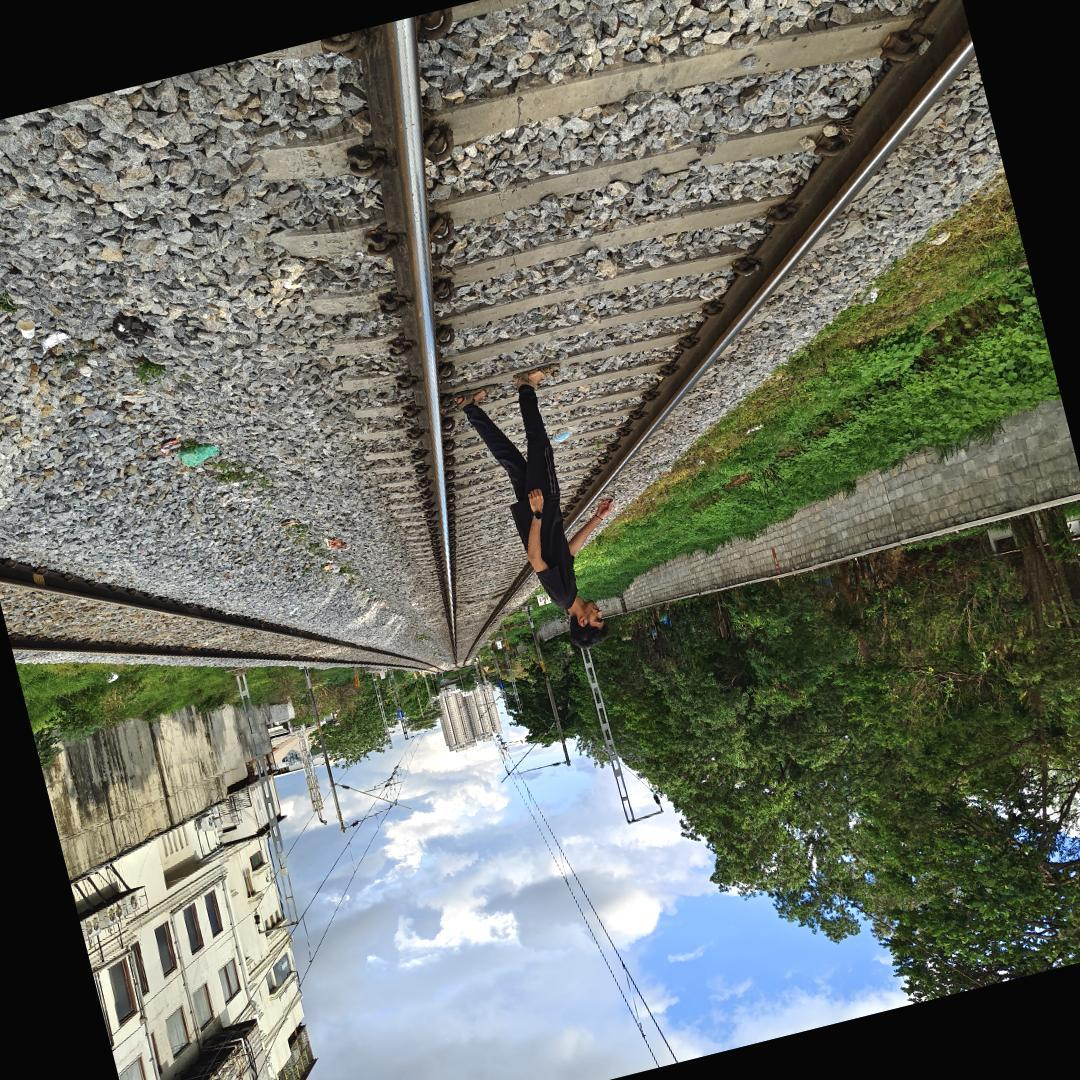standing: (431, 347, 617, 656)
